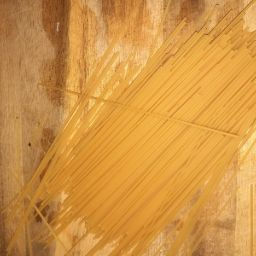Penne pasta: (32, 10, 256, 256), (49, 99, 208, 253), (82, 23, 208, 196)
